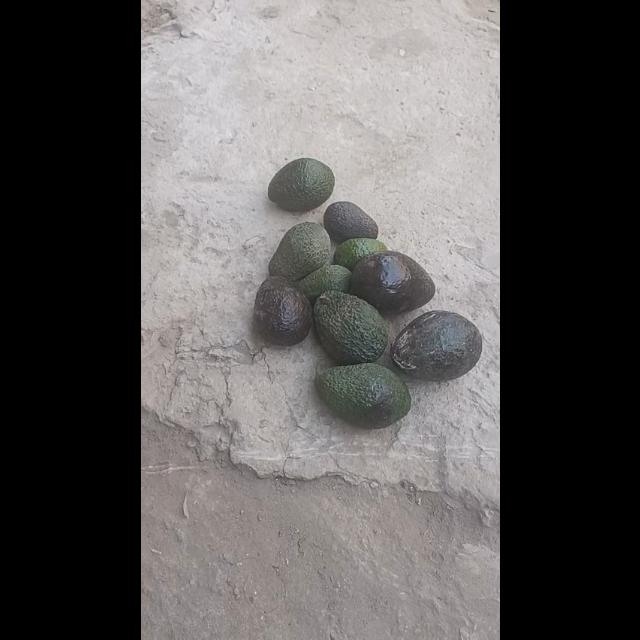Primera: (314, 362, 410, 428), (391, 309, 481, 379), (312, 288, 388, 364), (347, 250, 431, 314), (250, 276, 312, 344)
Segunda: (266, 156, 334, 212), (268, 222, 330, 280)
Tercera: (291, 263, 351, 307), (322, 200, 378, 242), (332, 237, 386, 271)
